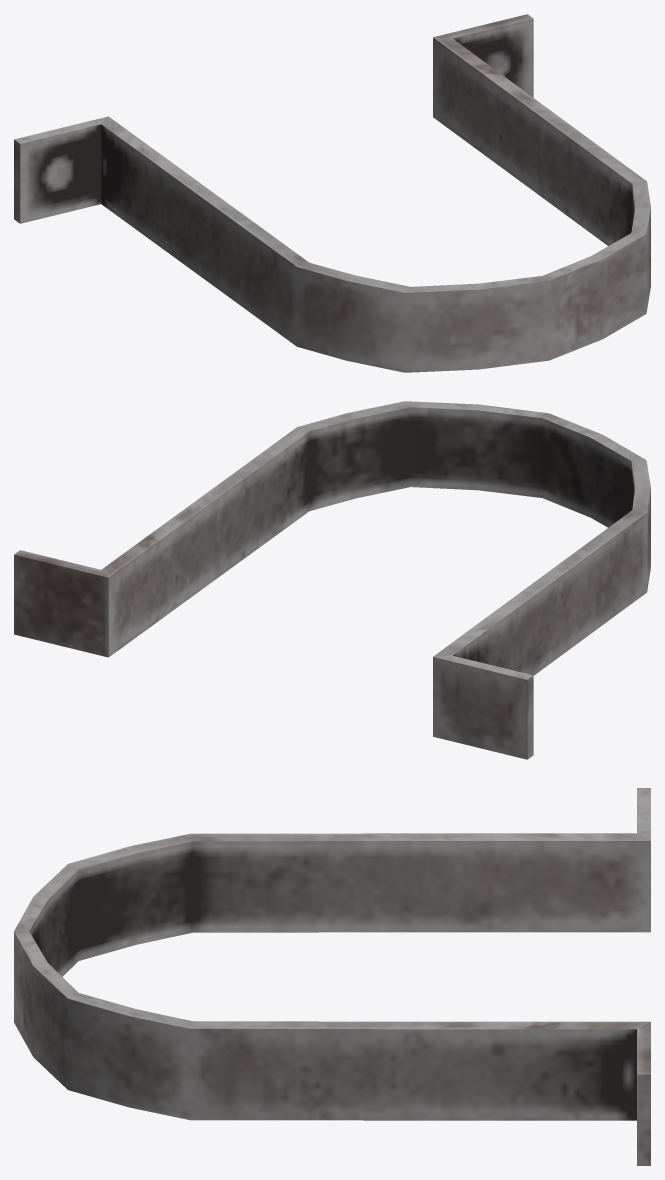
File: NM_ThinTube_WallConnector_02.fbx
3 renders of one model, top to bottom at view 1: azimuth 30°, elevation 25°; view 2: azimuth 150°, elevation 25°; view 3: azimuth 270°, elevation 25°, orthographic. The views are drawn at different scales.
Parts seen in each view (by area): view 1: Tube_WallConnector01_low; view 2: Tube_WallConnector01_low; view 3: Tube_WallConnector01_low.
Boxes of the visible parts, x1,y1,x2,y2 form: Tube_WallConnector01_low: [14, 14, 650, 372]; Tube_WallConnector01_low: [14, 401, 650, 759]; Tube_WallConnector01_low: [14, 788, 650, 1165].
Size of the model in its own units: 21.24 by 3.16 by 19.96.
